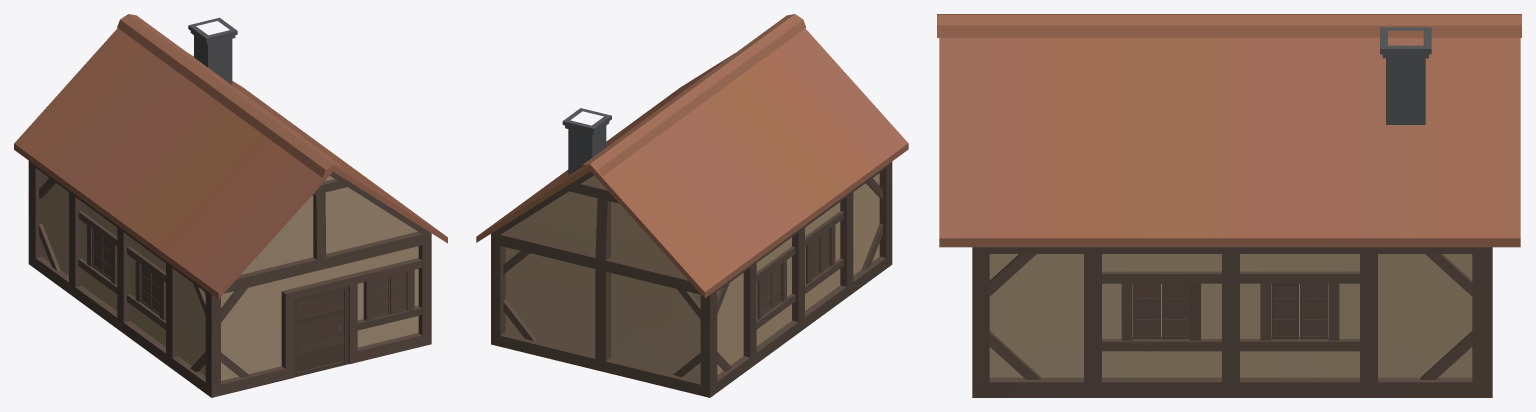
Rendered from cottage.glb.
3 renders of one model, left to right at view 1: azimuth 30°, elevation 25°; view 2: azimuth 150°, elevation 25°; view 3: azimuth 270°, elevation 25°, orthographic. The views are drawn at different scales.
Parts seen in each view (by area): view 1: Cottage; view 2: Cottage; view 3: Cottage.
Boxes of the visible parts, x1,y1,x2,y2 form: Cottage: (14, 14, 447, 397); Cottage: (476, 14, 908, 397); Cottage: (937, 14, 1521, 397).
Bounding box in the file's own units: 0.3 × 0.2763 × 0.4661.
1 material, 1 textured.
